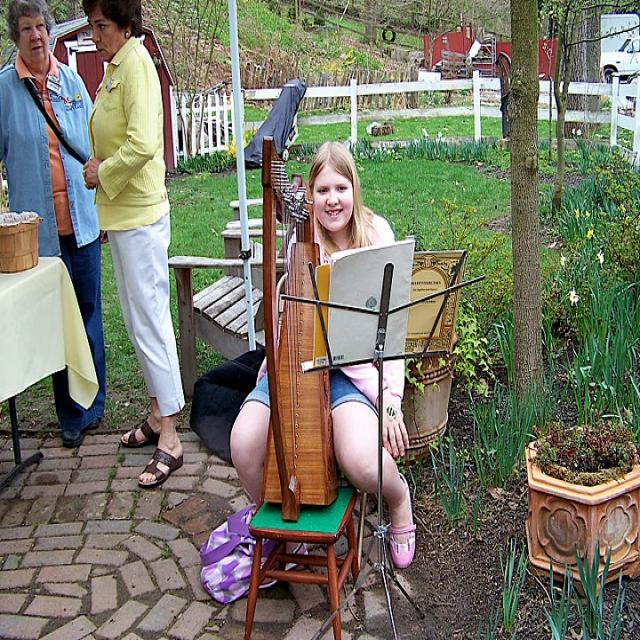harp: (246, 140, 341, 517)
